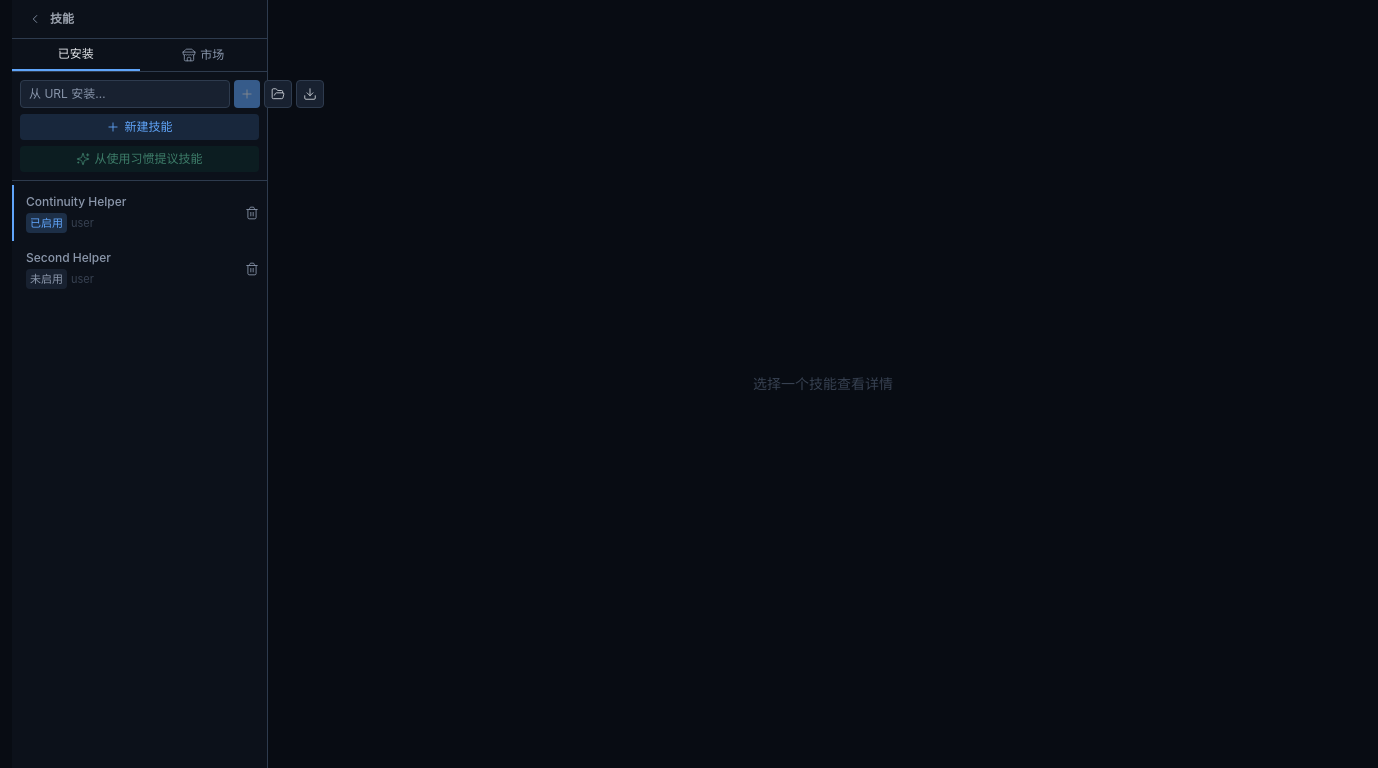
Test case: Skill lifecycle continuity › does not let a late post-disable refresh replace the newly selected Skill
The width and height of the screenshot is (1378, 768).
What coordinates should you click on to do the following:
click the button with aria-label "查看 Continuity Helper"
I would click on:
 (124, 213)
Its box is [12,185,237,241].
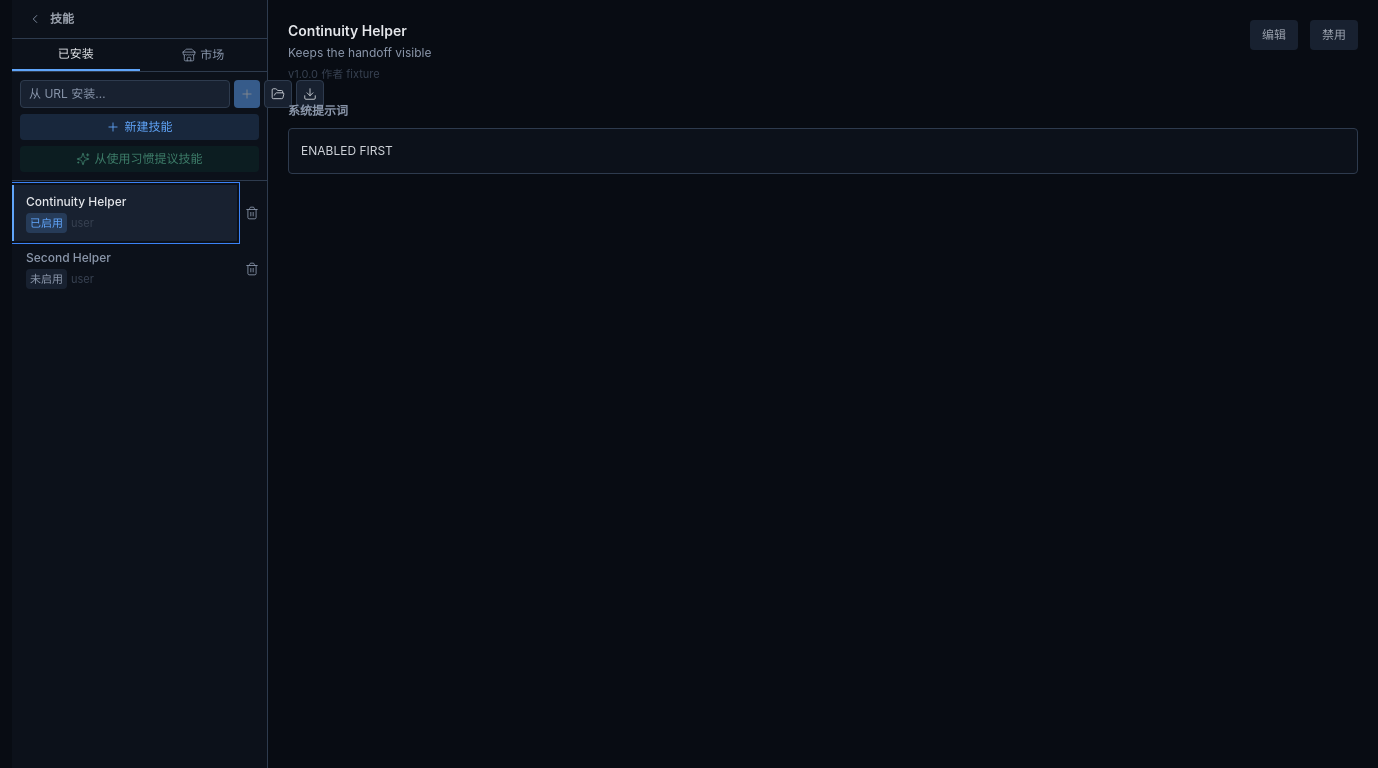
What coordinates should you click on to do the following:
click the button "禁用"
I would click on:
 (1334, 35)
Its box is [1310,20,1358,50].
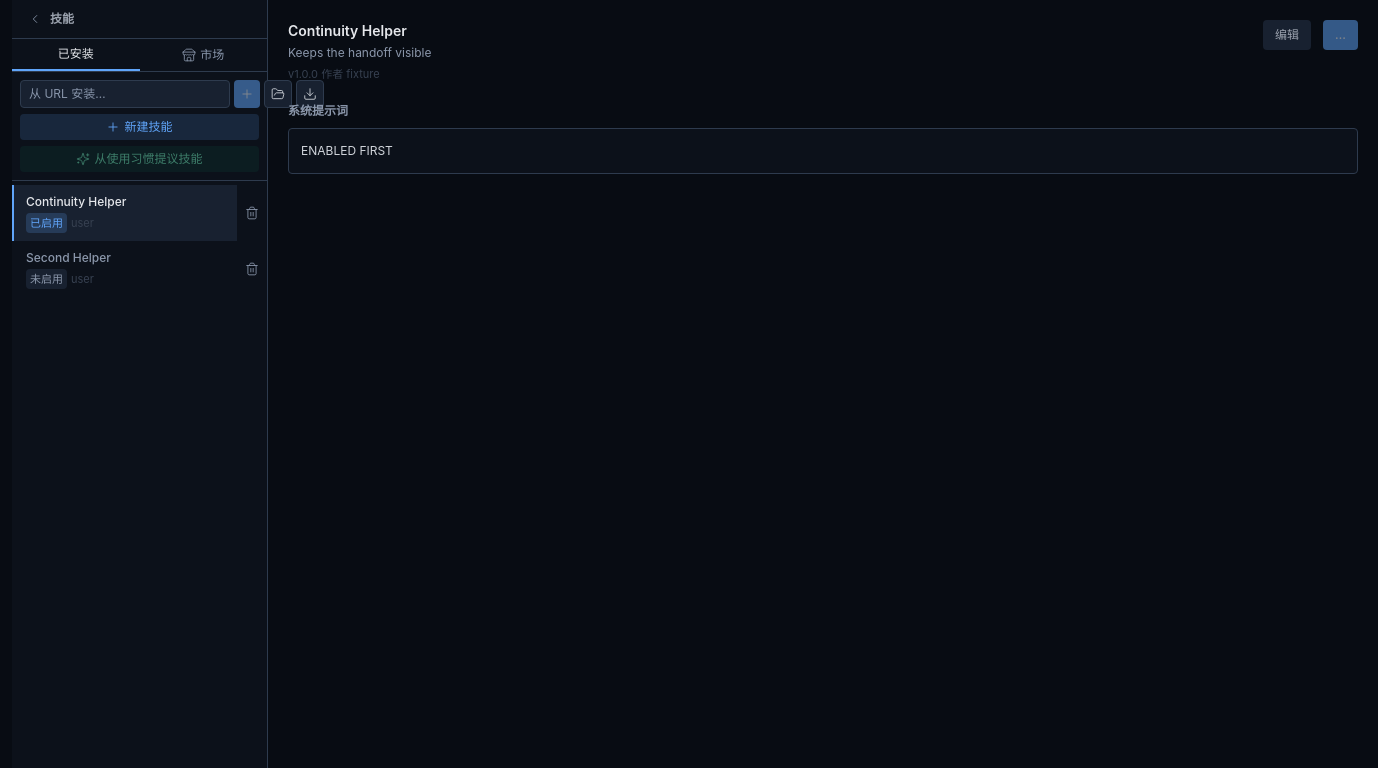
What coordinates should you click on to do the following:
click the button with aria-label "查看 Second Helper"
I would click on:
 (124, 269)
Its box is [12,241,237,297].
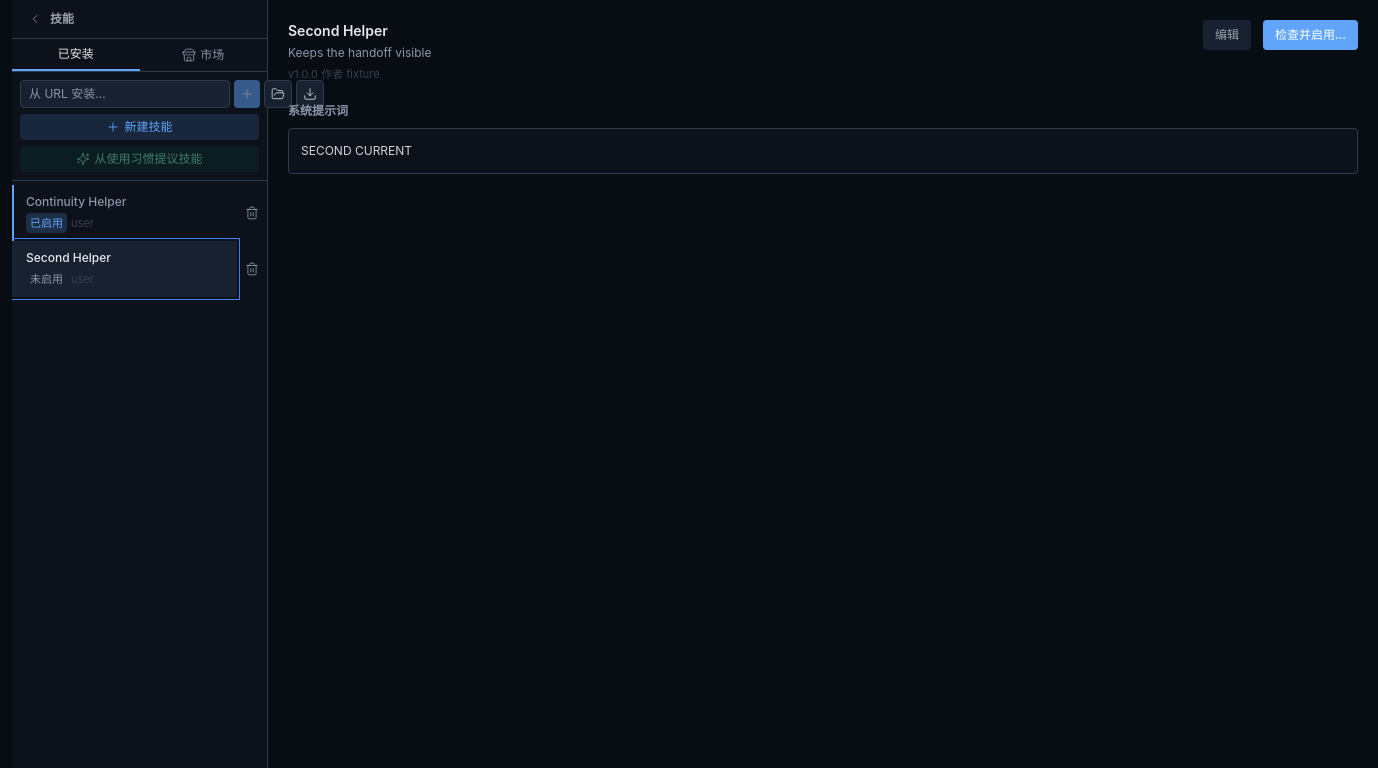
Now the text "SECOND CURRENT" is shown, box [288,128,1358,174]
Now the heading "Second Helper" is shown, box [288,22,388,39]
